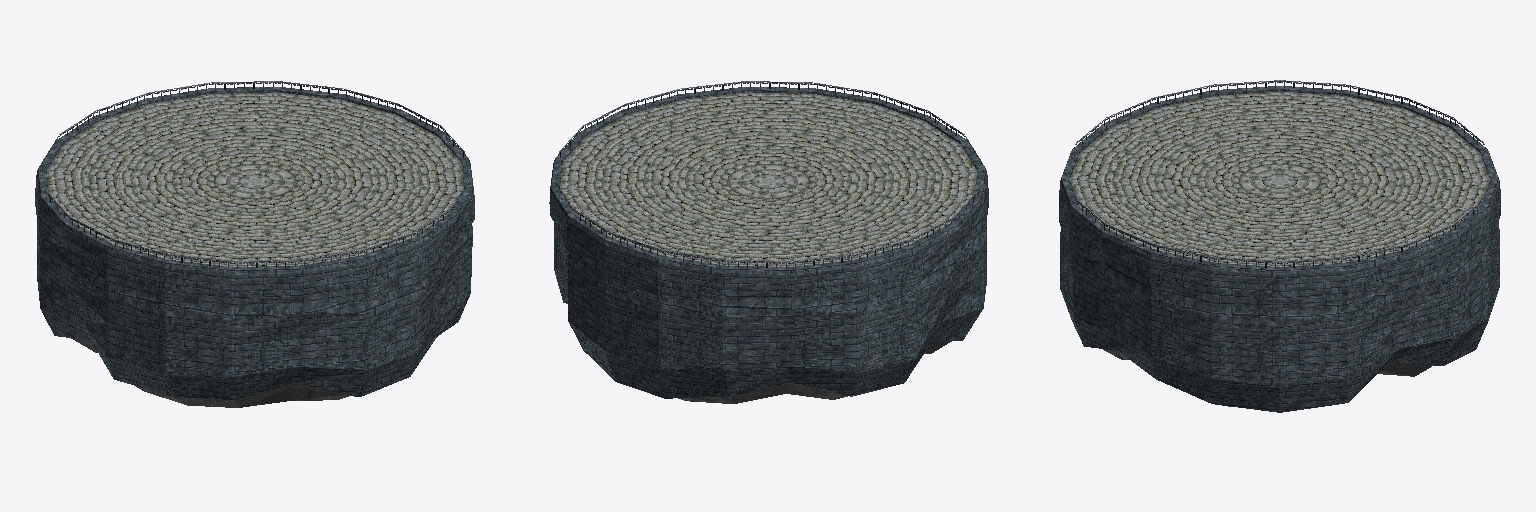
3 views of the same model, side by side, from view 1: azimuth 30°, elevation 25°; view 2: azimuth 150°, elevation 25°; view 3: azimuth 270°, elevation 25° (orthographic).
Parts seen in each view (by area): view 1: arena; view 2: arena; view 3: arena.
Part boxes in pixels (x1,y1,x2,y2): arena: (35,81,474,407); arena: (549,81,988,403); arena: (1059,80,1500,412).
Bounding box in the file's own units: 95.34 × 40.62 × 95.62.
Materials: 4 (4 with a texture image).